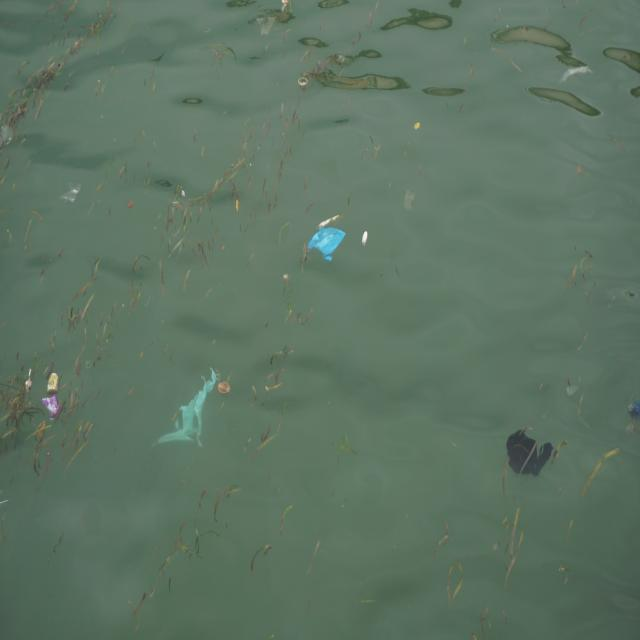Bungkus Minuman: (47, 372, 60, 395), (299, 77, 310, 94)
Kantong Plastik: (157, 367, 219, 453), (505, 424, 554, 481), (306, 226, 347, 264)
